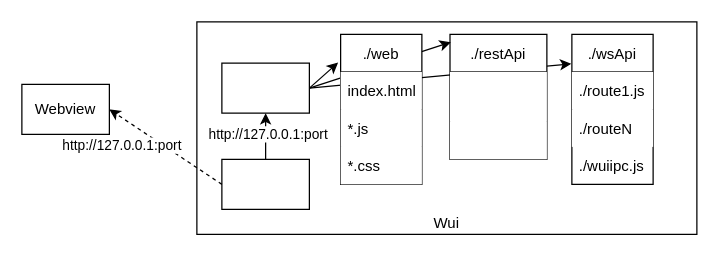
The diagram is 719 pixels wide and 256 high, and some of its shapes have lost their labels. The centre of each missing label's shape, as x and y in pixels:
"./api1 method.js" goes at pixel 497 96.
"./apiN" goes at pixel 497 140.
"Fork Webview" goes at pixel 265 183.
"Local Server" goes at pixel 265 87.
